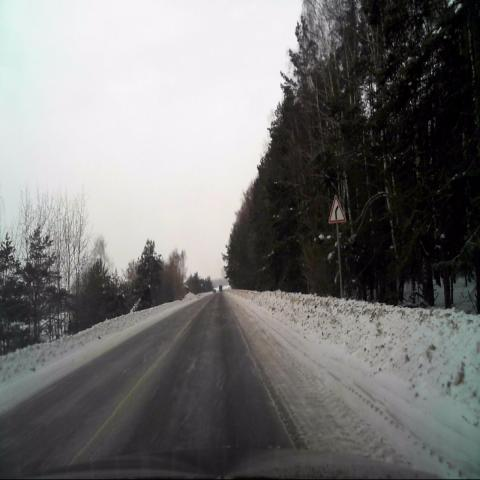1_11: (329, 194, 346, 223)
